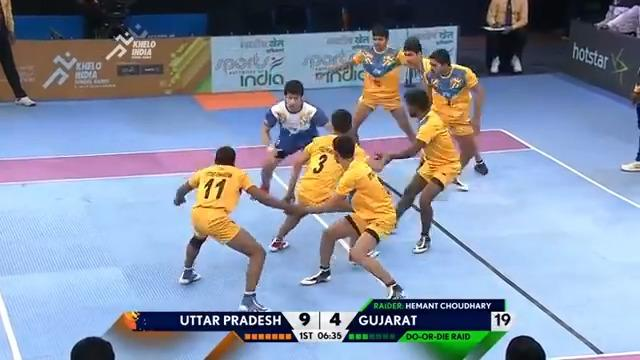Player: (173, 145, 297, 312), (268, 108, 392, 261), (298, 134, 404, 300), (373, 88, 462, 253), (328, 25, 424, 149), (422, 47, 488, 191), (0, 0, 36, 107), (620, 68, 639, 172)
Raider: (252, 79, 332, 203)
referee: (484, 0, 529, 74), (81, 0, 134, 40), (593, 0, 639, 37)
